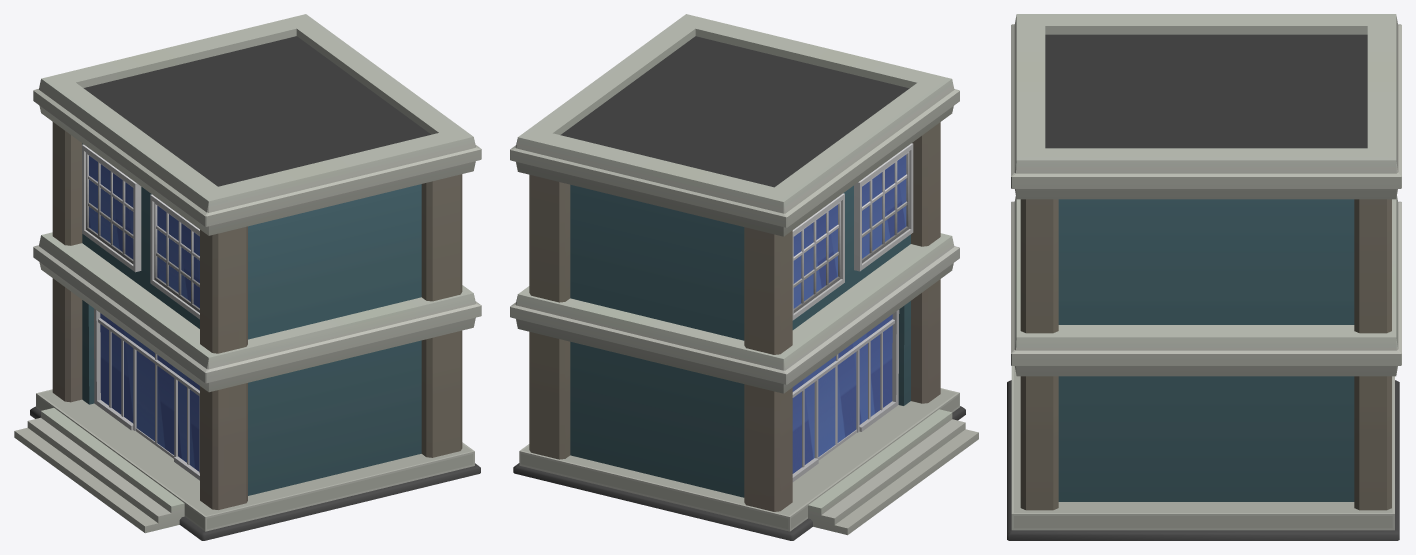
Rendered from Building_9_2_MM.fbx.
3 views of the same model, side by side, from view 1: azimuth 30°, elevation 25°; view 2: azimuth 150°, elevation 25°; view 3: azimuth 270°, elevation 25° (orthographic). The views are drawn at different scales.
Visible parts, largest first — view 1: Building_9_2_MM; view 2: Building_9_2_MM; view 3: Building_9_2_MM.
Boxes of the visible parts, left/top/right/bottom form: Building_9_2_MM: left=14, top=14, right=481, bottom=540; Building_9_2_MM: left=510, top=14, right=978, bottom=540; Building_9_2_MM: left=1007, top=14, right=1401, bottom=540.
Bounding box in the file's own units: 947 × 958 × 906.
